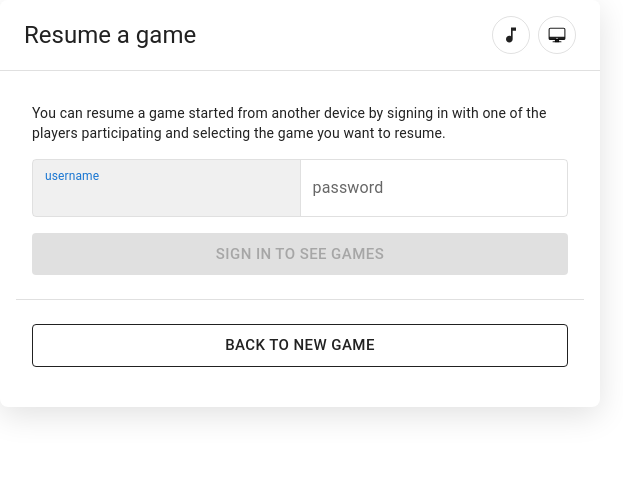
Test: ResumeGameView › handles login failure with error alert and plays snack sound
Type "testplayer" into the field labelled "username".
click(166, 188); type("testplayer")  # box [33, 160, 300, 216]
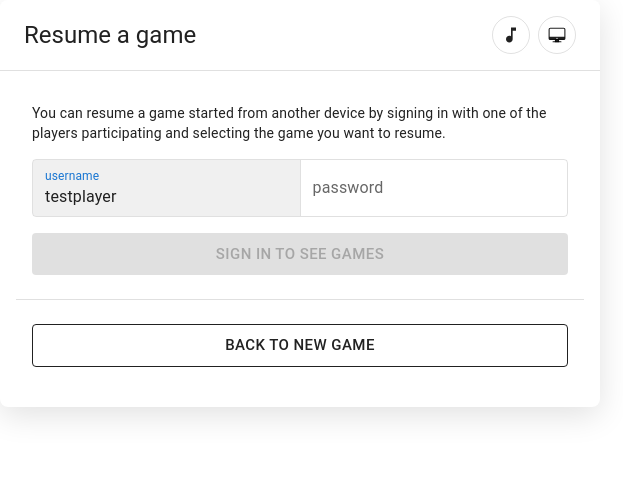
Type "wrongpass" into the password field labelled "password".
click(434, 188); type("wrongpass")  # box [300, 160, 567, 216]
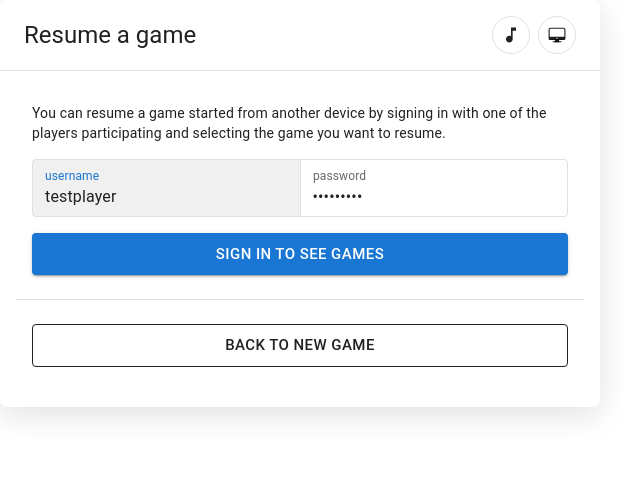
Click the button "Sign in to see games".
click(300, 254)  # box [32, 233, 568, 275]
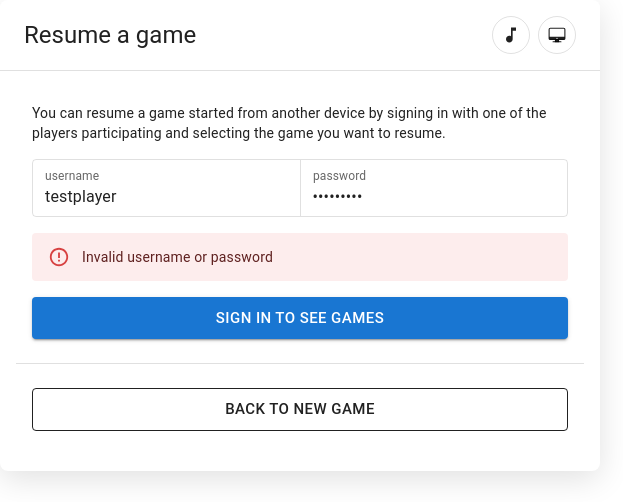
Expected: the text "Invalid username or password" is shown, [82, 249, 273, 265]
